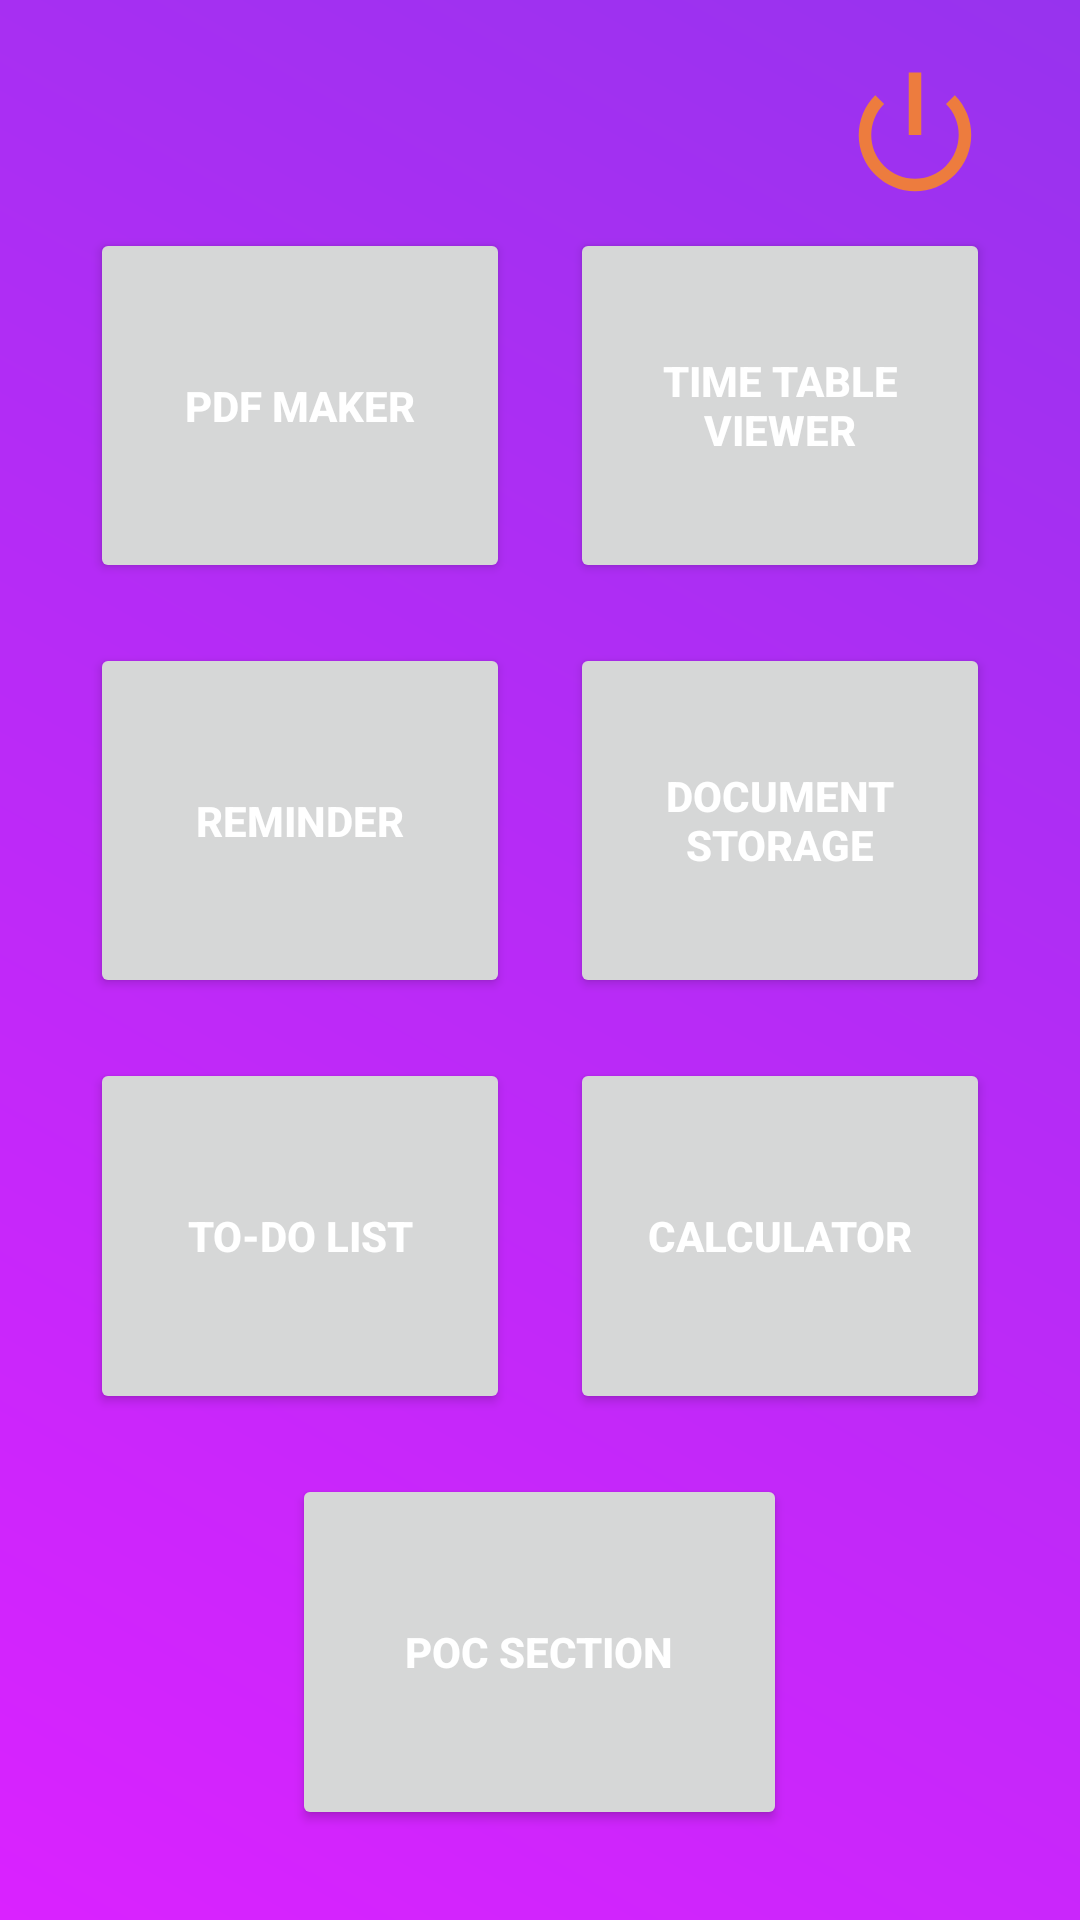

Icons on this 1080 × 1920 Android screen, each with its box as BBox(x1, y1, x2, y2):
lock power off: BBox(858, 72, 972, 192)
